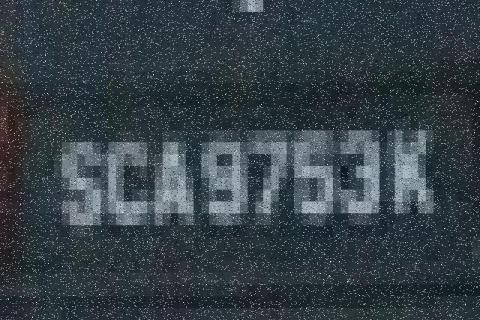LicensePlate: (23, 95, 463, 303)
